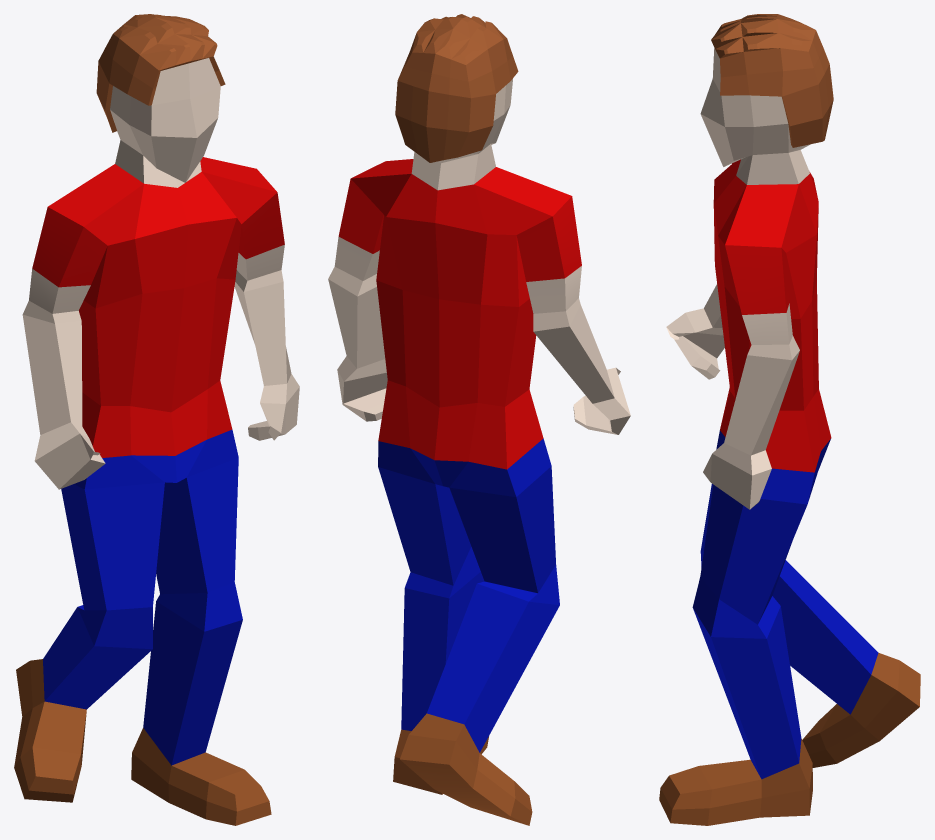
Rendered from Human_walking_16.fbx.
3 views of the same model, side by side, from view 1: azimuth 30°, elevation 25°; view 2: azimuth 150°, elevation 25°; view 3: azimuth 270°, elevation 25° (orthographic). The views are drawn at different scales.
Visible parts, largest first — view 1: Person; view 2: Person; view 3: Person.
Part boxes in pixels (x1,y1,x2,y2): Person: (14,14,299,825); Person: (328,14,630,825); Person: (659,14,920,825).
Size of the model in its own units: 0.1205 by 0.318 by 0.0962.
